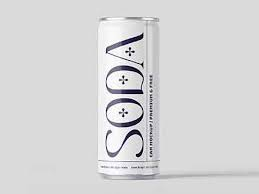can: (98, 16, 162, 182)
